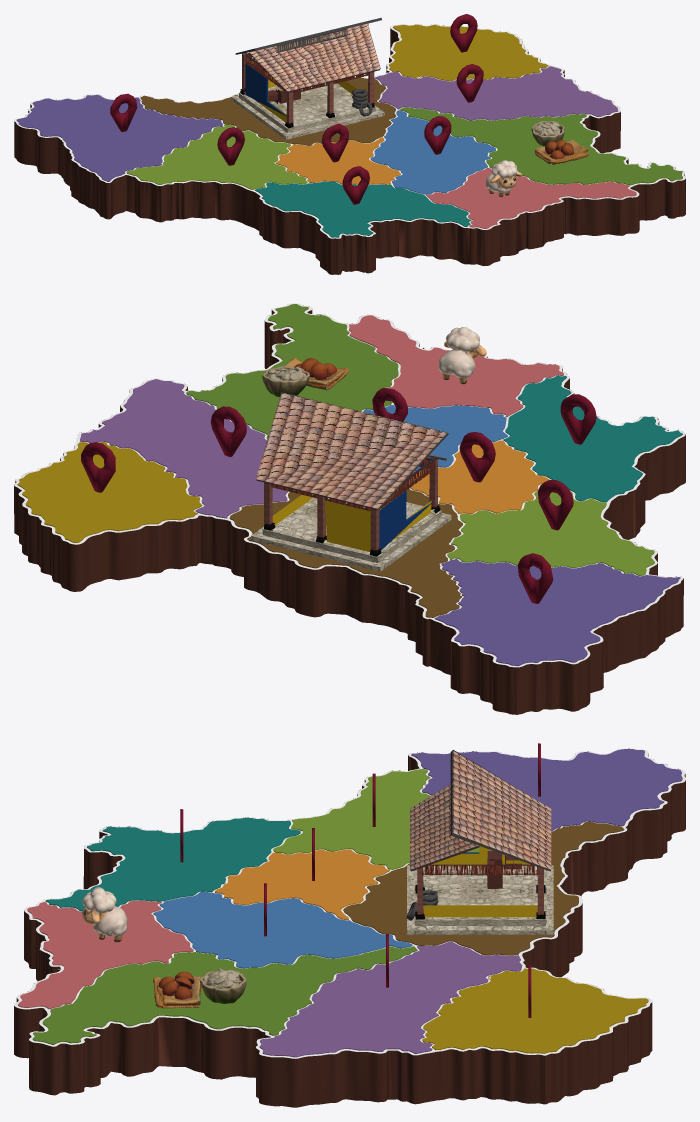
The model's file is mapsgardu_ios.glb.
3 renders of one model, top to bottom at view 1: azimuth 30°, elevation 25°; view 2: azimuth 150°, elevation 25°; view 3: azimuth 270°, elevation 25°, orthographic. The views are drawn at different scales.
Parts seen in each view (by area): view 1: Curve.012, Pendopo, gula aren, sheep_new_0, Poin.002, Poin.008, Poin.005, Poin.009, Poin.004, Poin.003, Poin.001, world; view 2: Curve.012, Pendopo, sheep_new_0, Poin.008, Poin.003, Poin.004, Poin.002, Poin.001, Poin.009, world, gula aren, Poin.005; view 3: Curve.012, Pendopo, sheep_new_0, gula aren, world.
Boxes of the visible parts, left/top/right/bottom form: Curve.012: left=14, top=24, right=685, bottom=274; Pendopo: left=231, top=17, right=384, bottom=139; gula aren: left=535, top=139, right=588, bottom=164; sheep_new_0: left=485, top=160, right=522, bottom=197; Poin.002: left=217, top=127, right=244, bottom=165; Poin.008: left=456, top=64, right=483, bottom=102; Poin.005: left=424, top=116, right=451, bottom=154; Poin.009: left=450, top=14, right=477, bottom=52; Poin.004: left=322, top=123, right=348, bottom=162; Poin.003: left=342, top=166, right=369, bottom=204; Poin.001: left=110, top=93, right=137, bottom=131; world: left=531, top=121, right=564, bottom=146; Curve.012: left=14, top=303, right=685, bottom=714; Pendopo: left=251, top=392, right=451, bottom=571; sheep_new_0: left=438, top=327, right=486, bottom=384; Poin.008: left=210, top=406, right=246, bottom=456; Poin.003: left=560, top=394, right=596, bottom=444; Poin.004: left=459, top=432, right=495, bottom=482; Poin.002: left=538, top=480, right=573, bottom=530; Poin.001: left=518, top=553, right=553, bottom=603; Poin.009: left=81, top=442, right=115, bottom=492; world: left=262, top=366, right=309, bottom=396; gula aren: left=284, top=357, right=348, bottom=390; Poin.005: left=372, top=388, right=407, bottom=421; Curve.012: left=14, top=748, right=685, bottom=1107; Pendopo: left=406, top=750, right=553, bottom=934; sheep_new_0: left=82, top=887, right=127, bottom=942; gula aren: left=153, top=971, right=201, bottom=1008; world: left=199, top=968, right=246, bottom=1003.
Bounding box in the file's own units: 24.97 × 6.02 × 22.85.
34 materials, 6 textured.
